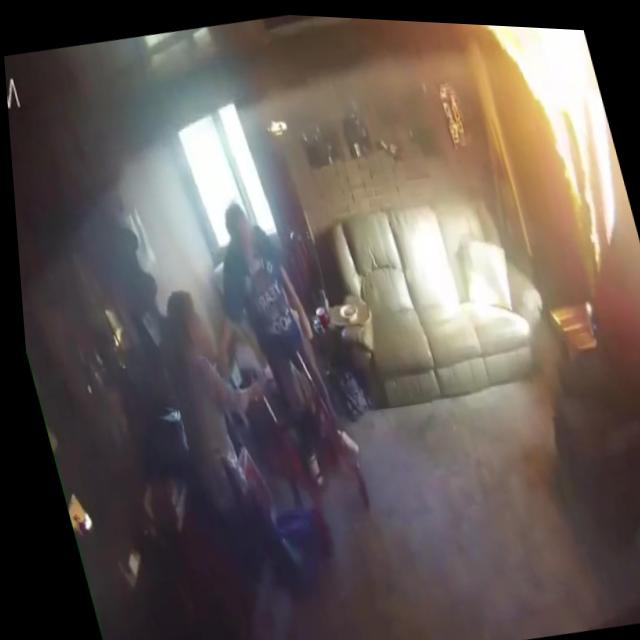fire: (467, 19, 638, 272)
